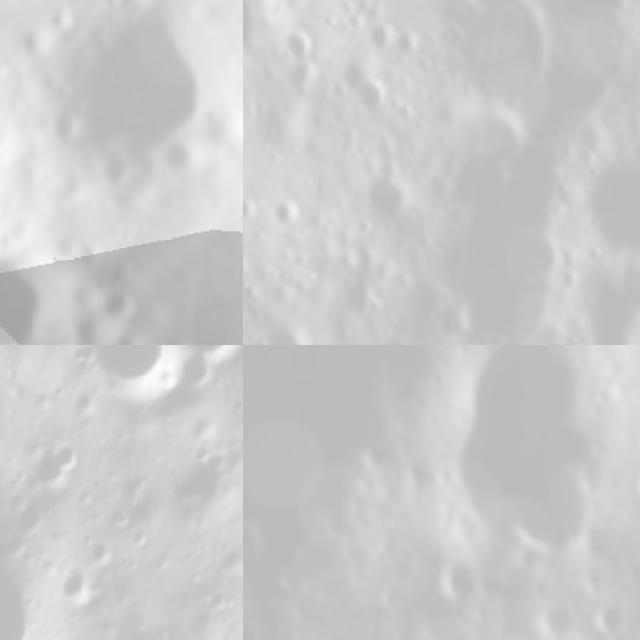crater: (14, 0, 243, 209), (422, 345, 604, 574), (413, 0, 576, 128), (0, 213, 97, 345), (152, 426, 243, 530), (574, 142, 640, 259), (560, 249, 640, 345), (81, 345, 198, 406), (266, 8, 336, 108), (28, 425, 102, 504), (359, 167, 423, 231), (86, 276, 152, 334), (47, 555, 102, 616), (345, 66, 396, 121), (249, 311, 329, 345), (339, 270, 390, 322), (425, 297, 479, 345), (432, 564, 480, 612), (268, 191, 314, 236), (171, 345, 243, 373), (243, 0, 267, 82), (80, 530, 123, 574), (98, 315, 161, 345), (243, 518, 274, 567), (582, 604, 624, 638), (528, 605, 568, 640)
